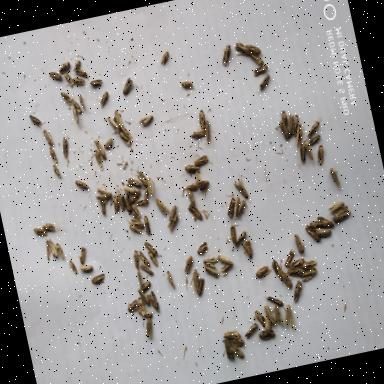pbw: (287, 278, 309, 308), (220, 192, 240, 224), (328, 203, 354, 227), (226, 228, 254, 250), (231, 171, 251, 201), (252, 306, 272, 335), (200, 112, 216, 148), (191, 176, 213, 202), (290, 118, 308, 149), (90, 134, 108, 164), (278, 301, 296, 331), (218, 334, 236, 364), (269, 255, 286, 286), (218, 41, 237, 68), (186, 267, 204, 294), (273, 117, 291, 144), (92, 182, 114, 204), (112, 128, 134, 150), (262, 291, 286, 311), (118, 188, 134, 218), (277, 106, 292, 138), (277, 266, 295, 292), (260, 301, 278, 327), (230, 36, 252, 57), (50, 56, 72, 77), (241, 318, 261, 341), (132, 164, 150, 189), (260, 308, 276, 336), (42, 237, 58, 265), (144, 288, 160, 316), (282, 110, 298, 138), (256, 326, 282, 343), (140, 314, 157, 340), (280, 246, 300, 268), (201, 250, 221, 272), (226, 340, 246, 362), (225, 222, 243, 246), (192, 168, 206, 198), (298, 264, 320, 283), (303, 222, 322, 244), (287, 112, 303, 138), (142, 238, 160, 261), (118, 122, 136, 145), (186, 200, 204, 223), (307, 214, 331, 231), (115, 188, 128, 219), (240, 40, 262, 58), (282, 263, 304, 281), (325, 198, 347, 216), (138, 258, 156, 280), (313, 142, 328, 168), (269, 302, 284, 328), (303, 137, 316, 167), (74, 244, 90, 268), (239, 238, 255, 262), (200, 263, 220, 282), (252, 262, 273, 280), (118, 76, 136, 97), (138, 212, 153, 237), (130, 248, 145, 273), (221, 325, 243, 342), (296, 140, 310, 166), (328, 164, 342, 190), (93, 89, 111, 109), (136, 284, 151, 308), (215, 260, 235, 278), (246, 48, 264, 68), (163, 212, 181, 232), (125, 188, 146, 205), (312, 222, 333, 239), (154, 195, 170, 217), (134, 305, 156, 321), (68, 96, 84, 118), (28, 110, 44, 132), (180, 254, 196, 276), (292, 231, 306, 256), (134, 293, 148, 318), (254, 72, 272, 91), (188, 126, 208, 143), (59, 88, 76, 108), (38, 127, 54, 148), (58, 134, 72, 158), (164, 268, 178, 292), (136, 248, 151, 270), (229, 194, 244, 216), (193, 274, 208, 296), (298, 256, 320, 271), (136, 278, 154, 296), (216, 250, 234, 268), (126, 215, 145, 232), (250, 62, 270, 78), (164, 202, 180, 222), (226, 334, 246, 350), (109, 191, 122, 215), (112, 107, 125, 131), (195, 107, 208, 131), (62, 68, 76, 90), (306, 130, 323, 148), (182, 177, 200, 194), (183, 161, 202, 177), (287, 256, 306, 272), (66, 255, 79, 278), (124, 298, 142, 314), (192, 152, 210, 168), (156, 49, 172, 67), (54, 240, 66, 264), (136, 112, 155, 127), (138, 184, 152, 204), (144, 176, 158, 196), (146, 248, 160, 268), (88, 272, 108, 286), (185, 186, 197, 209), (92, 147, 104, 170), (125, 174, 142, 190), (39, 219, 57, 234), (179, 76, 195, 92), (121, 182, 137, 198), (48, 68, 64, 84), (194, 240, 210, 256), (106, 114, 120, 132), (30, 225, 48, 239), (76, 91, 87, 113), (72, 65, 88, 80), (70, 74, 87, 88), (68, 57, 82, 74), (97, 197, 109, 216), (74, 178, 90, 192), (78, 260, 94, 274), (130, 202, 142, 220), (86, 76, 104, 88), (48, 145, 58, 166), (100, 136, 115, 150), (133, 197, 150, 209), (70, 106, 80, 126), (135, 268, 144, 290), (51, 162, 61, 180)
